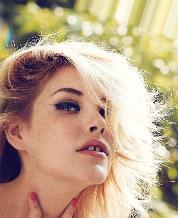face: (57, 88, 112, 159)
